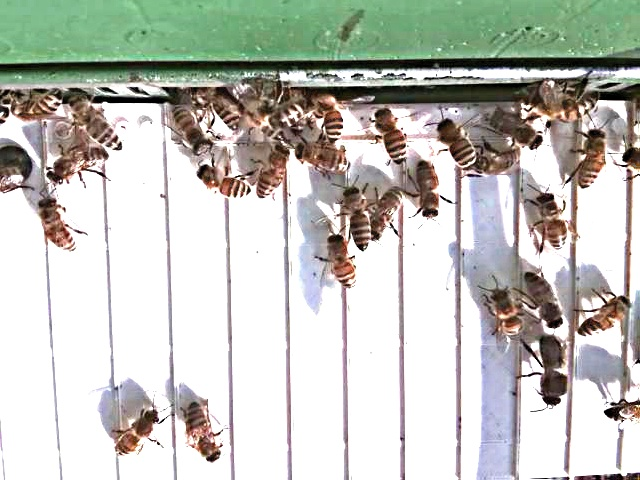Drone: (536, 332, 573, 412)
Worker: (180, 397, 227, 468), (43, 143, 114, 189), (35, 194, 82, 259), (111, 407, 167, 461), (71, 99, 127, 153), (530, 189, 575, 256), (575, 294, 634, 343), (370, 107, 414, 170), (338, 184, 377, 254), (522, 269, 566, 331), (488, 282, 529, 346), (574, 127, 612, 195), (435, 117, 479, 175), (254, 139, 293, 204), (534, 89, 603, 124), (369, 184, 408, 244), (321, 233, 360, 293), (194, 168, 256, 205), (414, 158, 447, 225), (292, 144, 354, 178), (13, 89, 66, 127), (314, 86, 347, 146)
